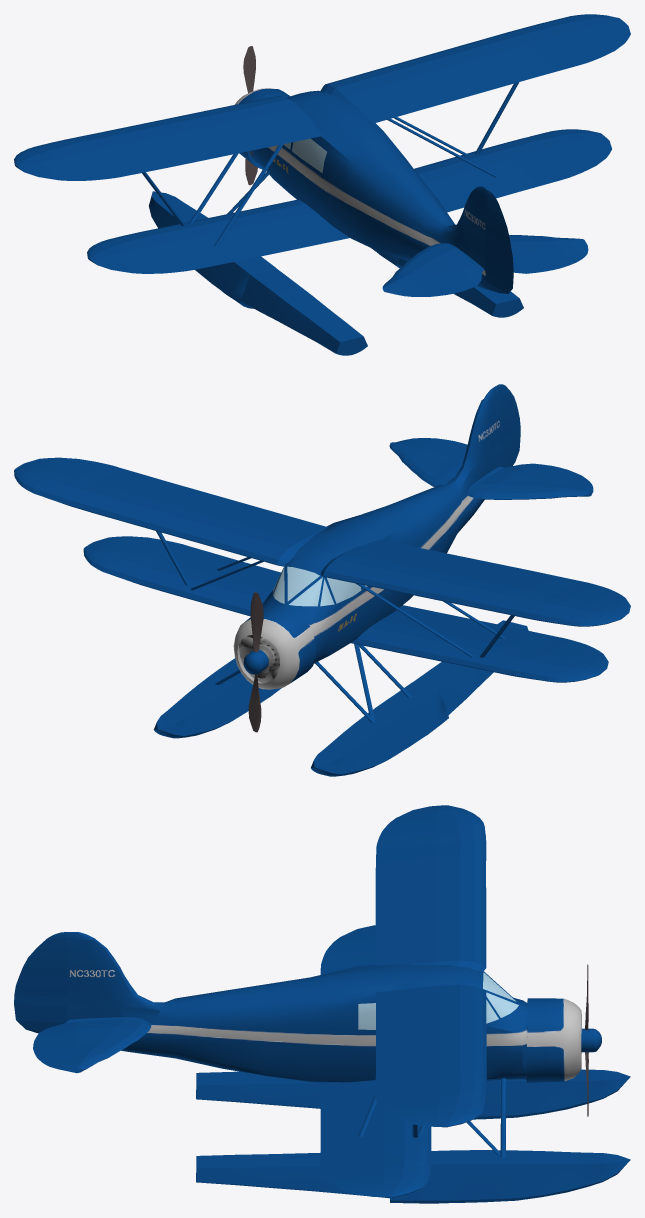
The model's file is Waco-S-float.glb.
3 views of the same model, one above another, from view 1: azimuth 30°, elevation 25°; view 2: azimuth 150°, elevation 25°; view 3: azimuth 270°, elevation 25° (orthographic). The views are drawn at different scales.
Visible parts, largest first — view 1: WacoSFuselage; view 2: WacoSFuselage; view 3: WacoSFuselage.
Part boxes in pixels (x1,y1,x2,y2): WacoSFuselage: [14, 14, 630, 355]; WacoSFuselage: [14, 384, 630, 776]; WacoSFuselage: [14, 805, 630, 1203].
Bounding box in the file's own units: 11.39 × 3.76 × 9.24.
4 materials, 4 textured.
